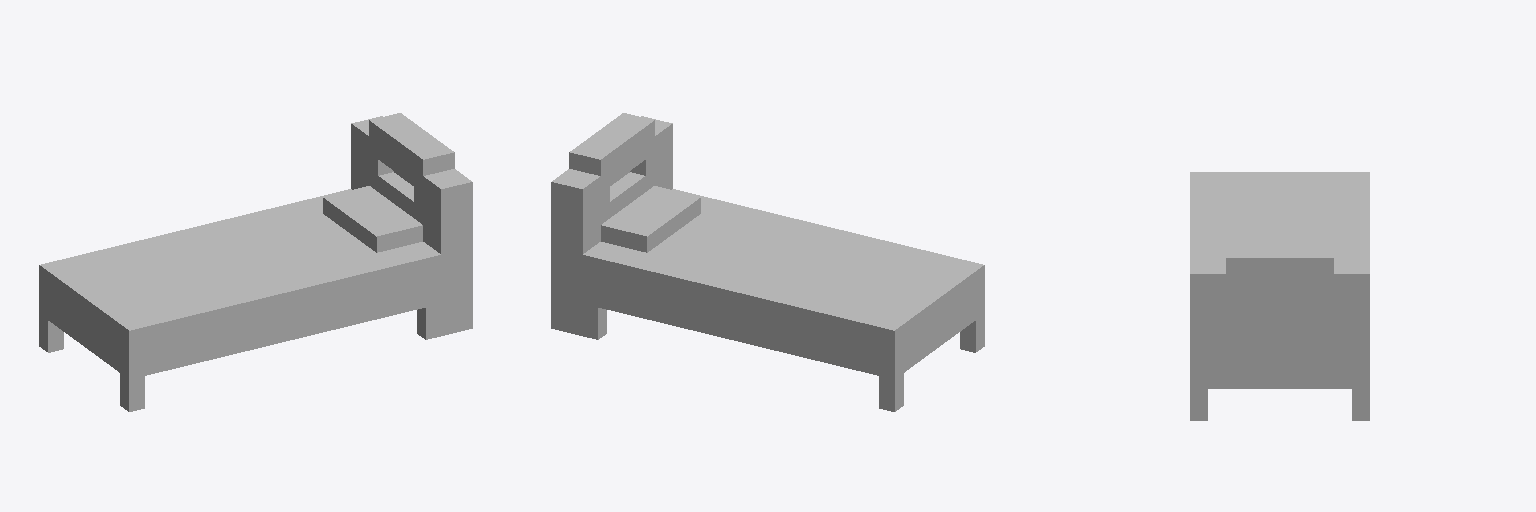
The model's file is bed.obj.
The picture shows the model from 3 angles: view 1: azimuth 30°, elevation 25°; view 2: azimuth 150°, elevation 25°; view 3: azimuth 270°, elevation 25°; orthographic projection.
Visible parts, largest first — view 1: object 1; view 2: object 1; view 3: object 1.
Boxes of the visible parts, box(x1,y1,x2,y2) form: object 1: box(39, 113, 472, 411); object 1: box(551, 113, 984, 411); object 1: box(1190, 172, 1369, 420).
Size of the model in its own units: 2.2 by 1 by 1.